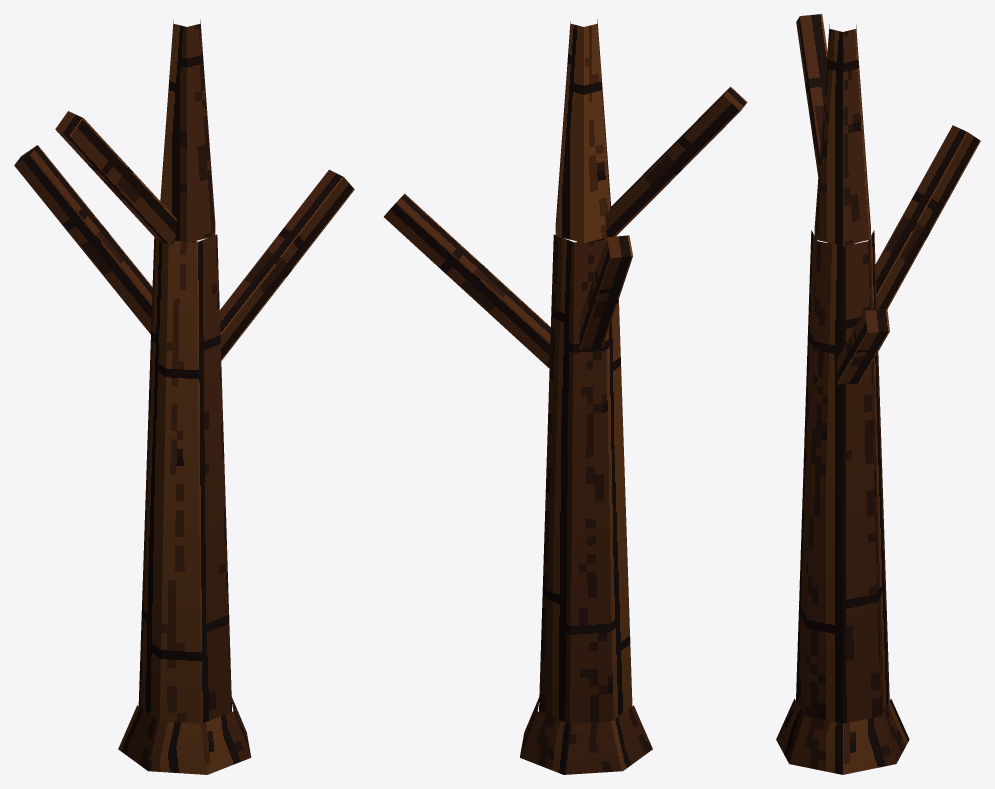
Rendered from apple_2_trunk.glb.
The picture shows the model from 3 angles, left to right: view 1: azimuth 30°, elevation 25°; view 2: azimuth 150°, elevation 25°; view 3: azimuth 270°, elevation 25°; orthographic projection.
Visible parts, largest first — view 1: apple_2_trunk; view 2: apple_2_trunk; view 3: apple_2_trunk.
Boxes of the visible parts, left/top/right/bottom form: apple_2_trunk: left=14, top=20, right=354, bottom=774; apple_2_trunk: left=384, top=19, right=747, bottom=774; apple_2_trunk: left=776, top=14, right=980, bottom=774.
Bounding box in the file's own units: 1.95 × 4.18 × 1.08.
Materials: 1 (1 with a texture image).
